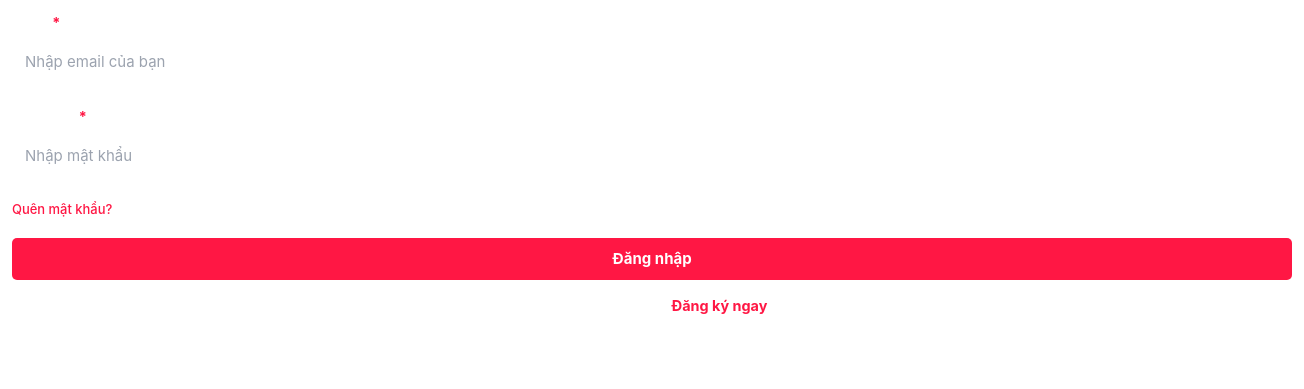
Test case: LoginForm Component › validates email format
This screenshot has width=1304, height=389.
In the field labelled "Email*": (652, 62) [12, 40, 1292, 84], type "invalid-email"
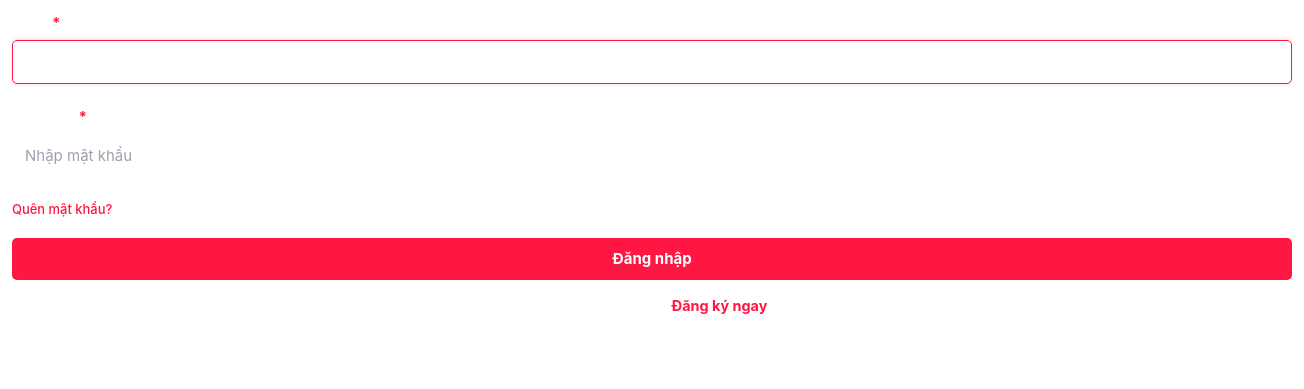
Click the button "Đăng nhập": (652, 259) [12, 238, 1292, 280]
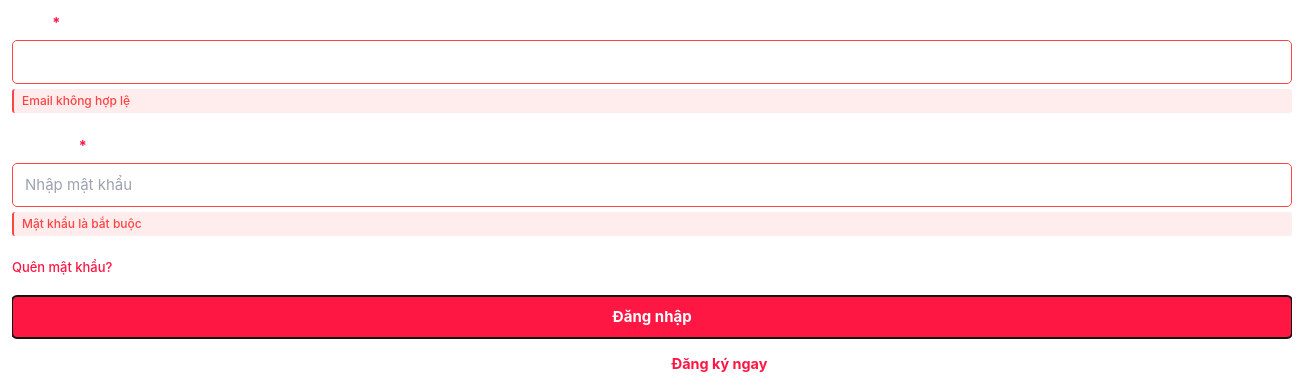
Expected: the text "Email không hợp lệ" is shown, [12, 89, 1292, 113]
